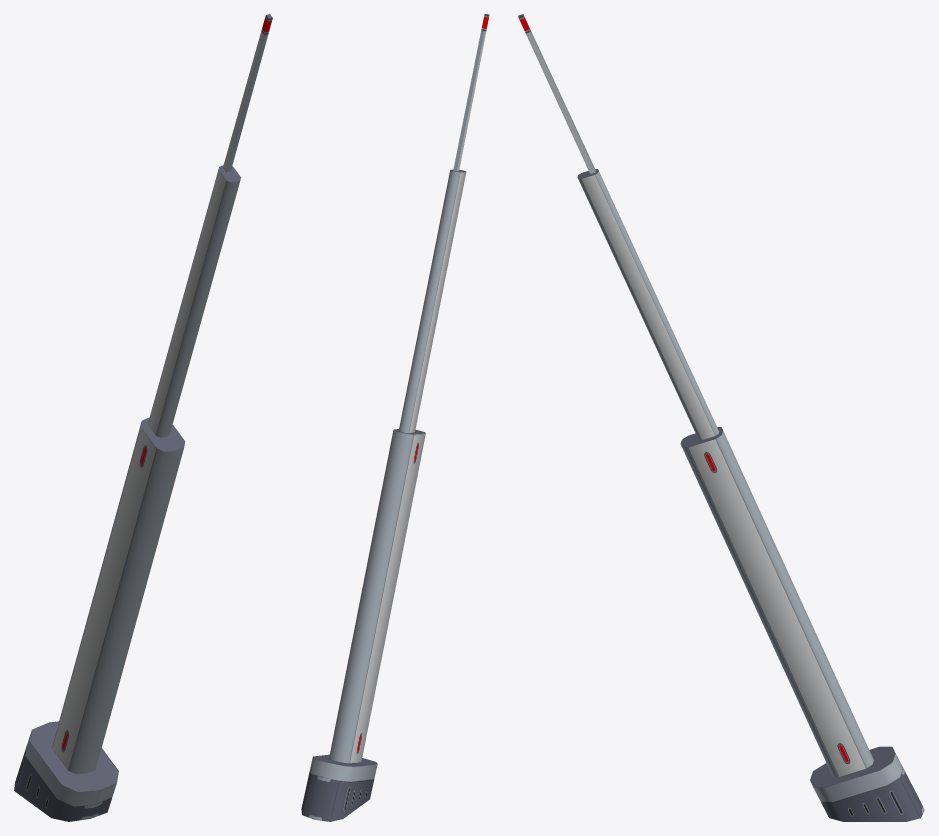
The model's file is Antena_04.FBX.
3 views of the same model, side by side, from view 1: azimuth 30°, elevation 25°; view 2: azimuth 150°, elevation 25°; view 3: azimuth 270°, elevation 25° (orthographic). The views are drawn at different scales.
Visible parts, largest first — view 1: Antena_04; view 2: Antena_04; view 3: Antena_04.
Part boxes in pixels (x1,y1,x2,y2): Antena_04: (14, 14, 272, 821); Antena_04: (301, 14, 489, 821); Antena_04: (518, 14, 924, 821).
Bounding box in the file's own units: 5.84 × 91.19 × 42.24.
Materials: 2 (2 with a texture image).
